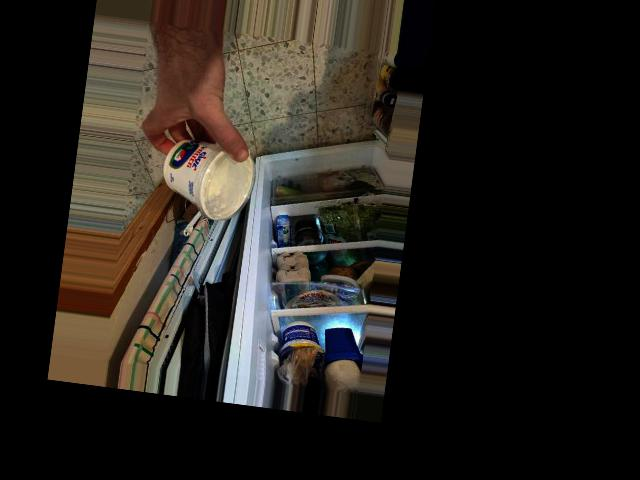cotage: (166, 137, 246, 229)
